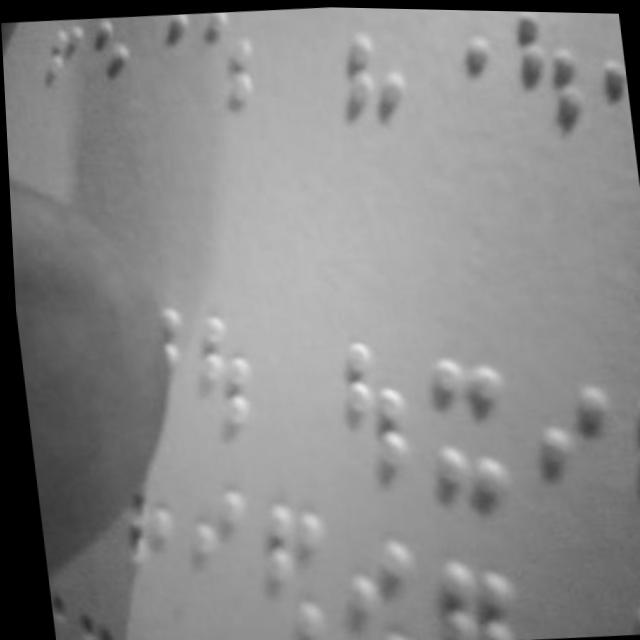braiile: (411, 338, 510, 503), (516, 366, 614, 527), (245, 490, 331, 640), (161, 470, 245, 618), (504, 9, 592, 149), (326, 328, 408, 478), (174, 293, 259, 437), (414, 7, 500, 123), (327, 531, 418, 640), (186, 7, 262, 119), (418, 544, 501, 640), (582, 25, 636, 166), (127, 11, 199, 114), (600, 372, 640, 540)
